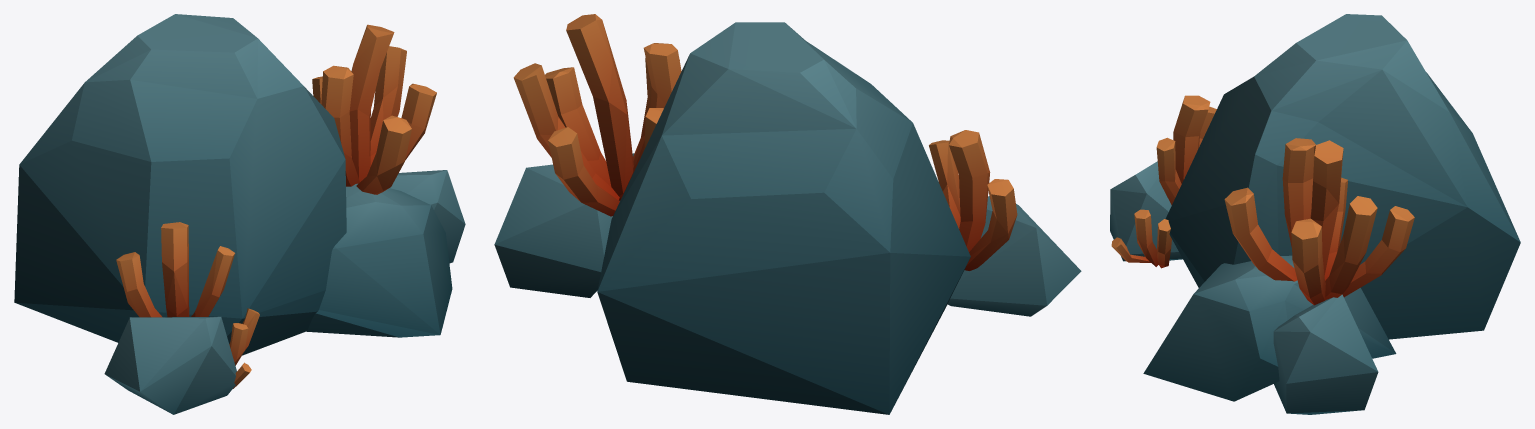
The model's file is stone_big_corals_orange.fbx.
3 renders of one model, left to right at view 1: azimuth 30°, elevation 25°; view 2: azimuth 150°, elevation 25°; view 3: azimuth 270°, elevation 25°, orthographic. The views are drawn at different scales.
Visible parts, largest first — view 1: stone_big_corals_orange; view 2: stone_big_corals_orange; view 3: stone_big_corals_orange.
Part boxes in pixels (x1,y1,x2,y2): stone_big_corals_orange: (14,14,465,414); stone_big_corals_orange: (494,14,1081,414); stone_big_corals_orange: (1110,14,1520,414).
Bounding box in the file's own units: 2.13 × 1.31 × 1.83.
